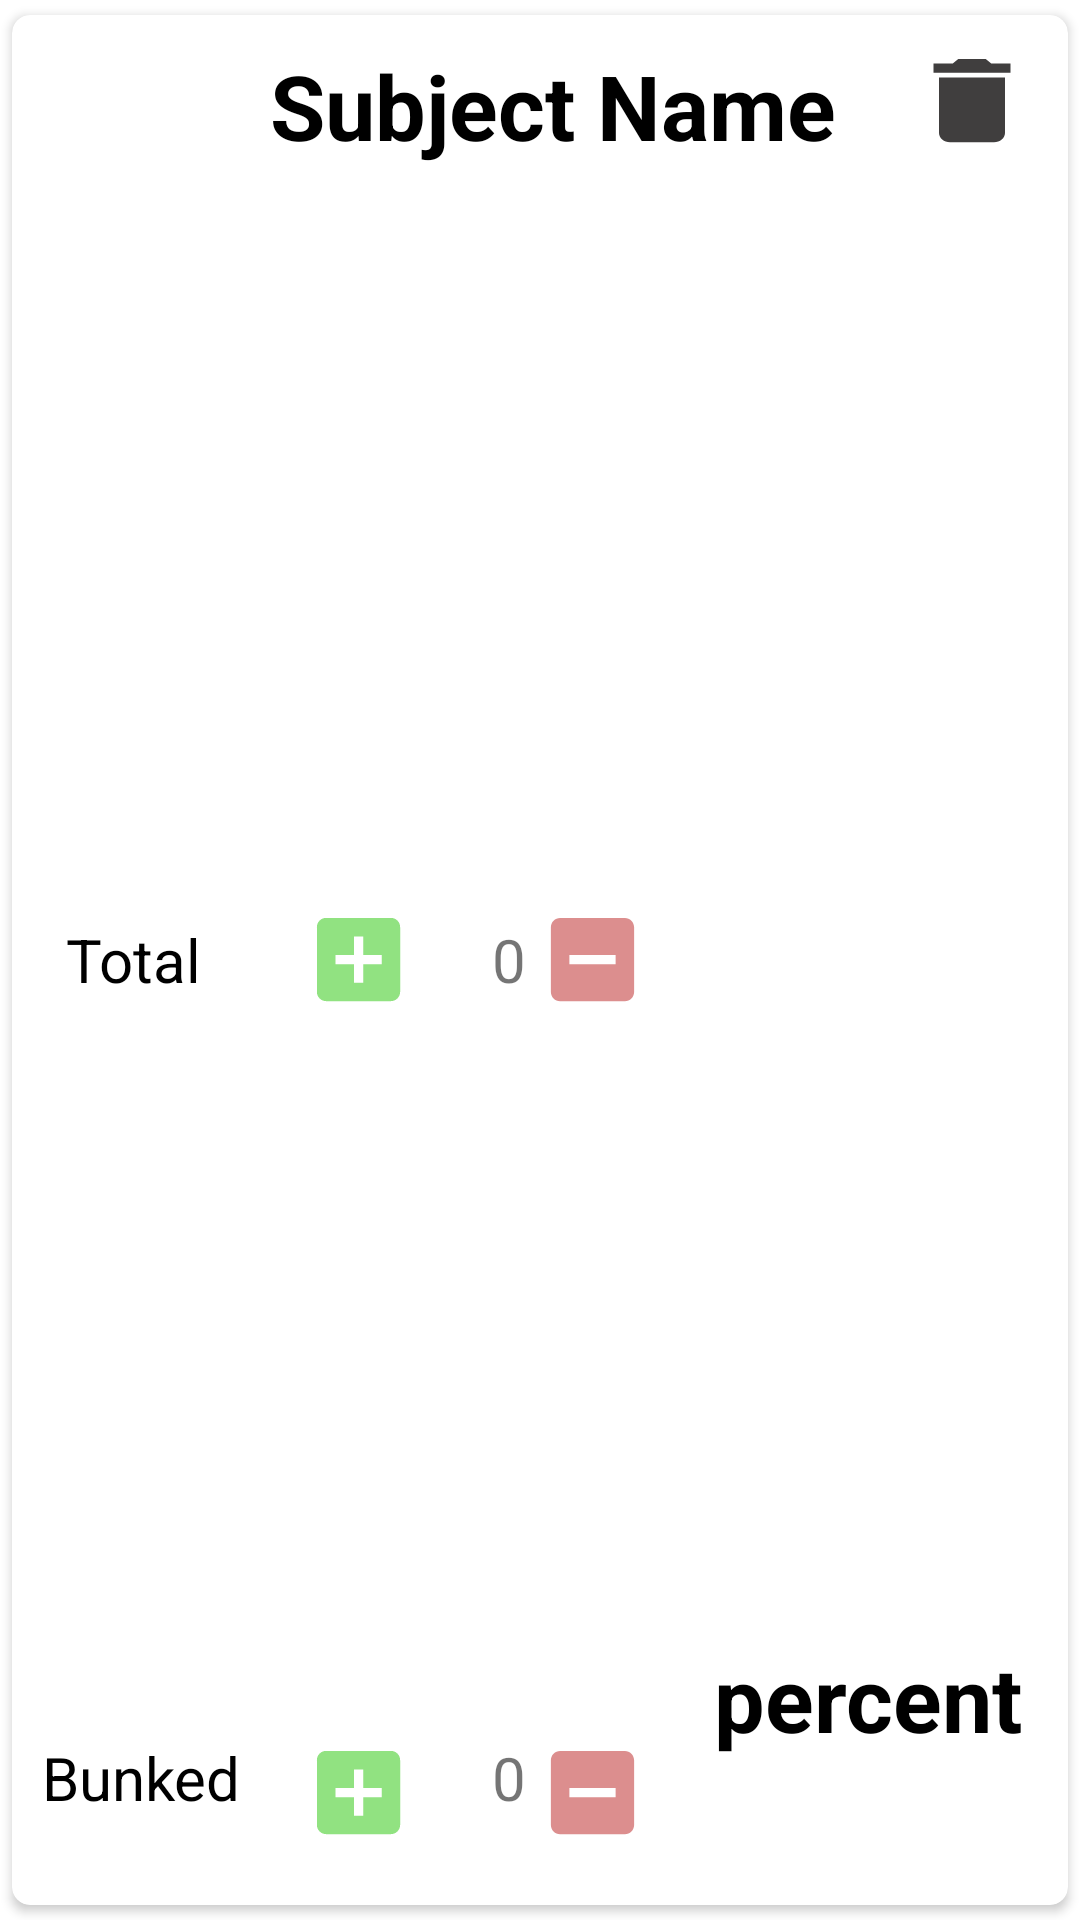

Where to tap for icons on this 1080w x 1920h app screen, as (x=x, y=y):
delete: (x=972, y=101)
minus: (x=592, y=960), (x=592, y=1793)
plus: (x=359, y=960), (x=359, y=1793)
